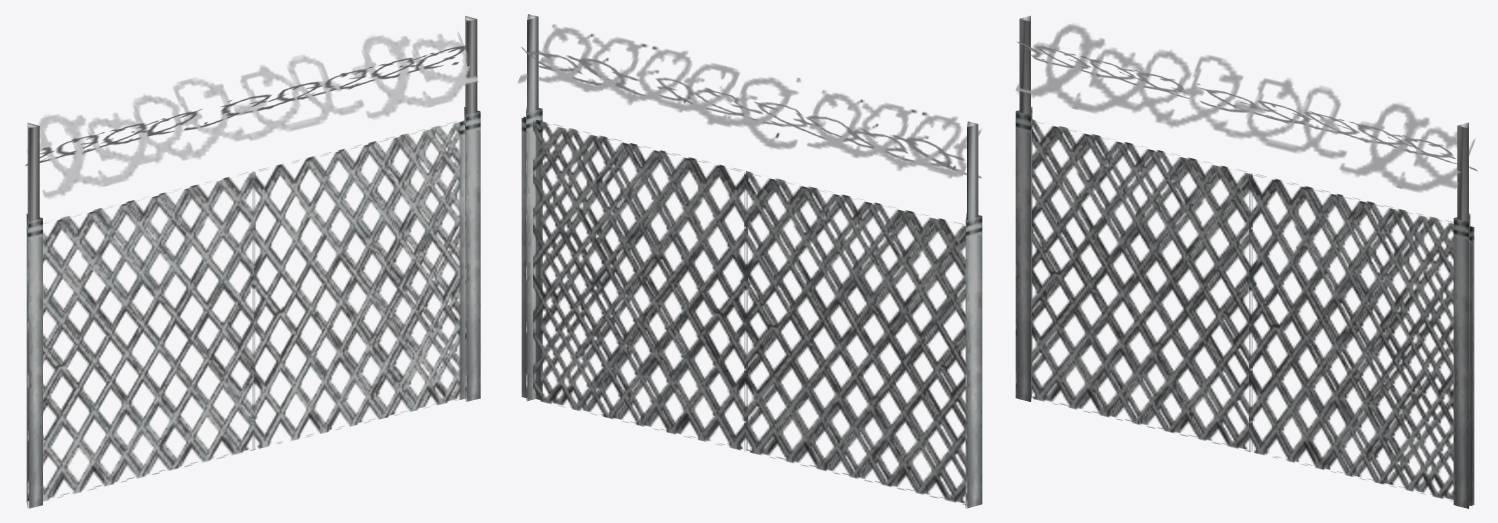
File: Environment - Prop - Chain Link Fence 01 - PMWallChn4.glb
3 views of the same model, side by side, from view 1: azimuth 30°, elevation 25°; view 2: azimuth 150°, elevation 25°; view 3: azimuth 330°, elevation 25° (orthographic).
Visible parts, largest first — view 1: PMWALLCHN4; view 2: PMWALLCHN4; view 3: PMWALLCHN4.
Part boxes in pixels (left/top/right/bottom): PMWALLCHN4: left=25, top=16, right=480, bottom=508; PMWALLCHN4: left=518, top=14, right=982, bottom=508; PMWALLCHN4: left=1015, top=15, right=1477, bottom=508.
Size of the model in its own units: 28.35 by 22.65 by 3.53.
Materials: 2 (2 with a texture image).
